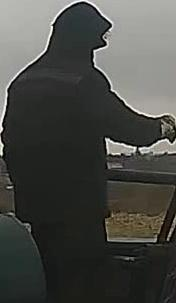gloves: (149, 112, 176, 144)
vest: (0, 62, 116, 224)
